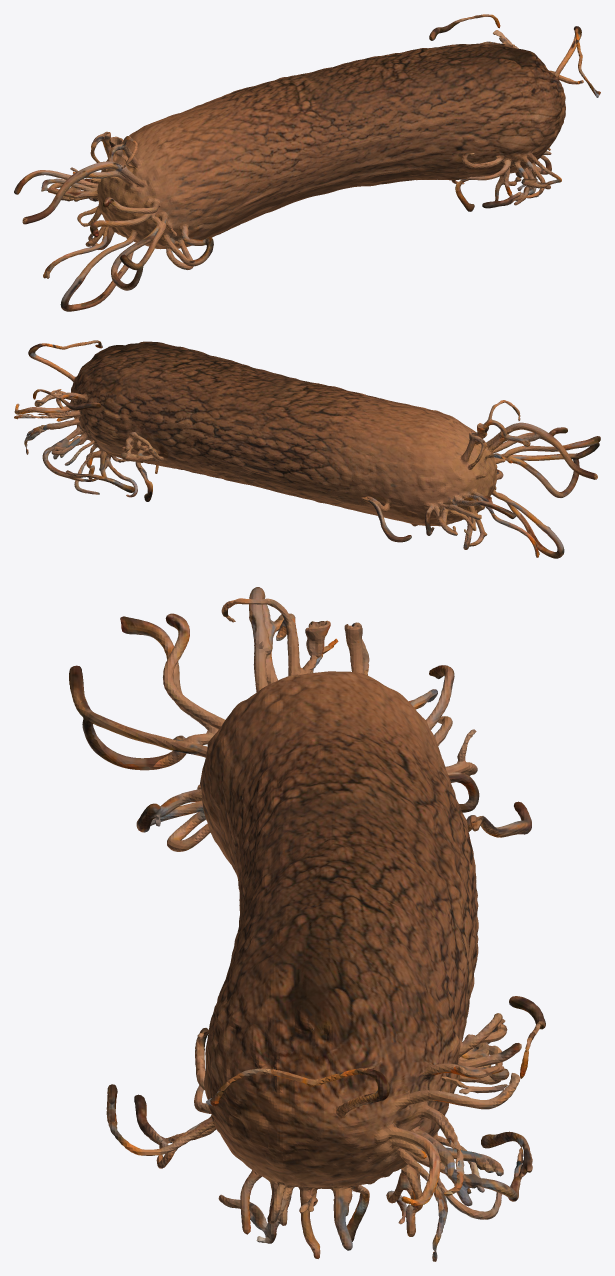
The model's file is pseudomona-aeruginosa.glb.
3 renders of one model, top to bottom at view 1: azimuth 30°, elevation 25°; view 2: azimuth 150°, elevation 25°; view 3: azimuth 270°, elevation 25°, orthographic. The views are drawn at different scales.
Parts seen in each view (by area): view 1: tripo_node_f638565d-5715-4b1c-ad58-03a6134be0c3; view 2: tripo_node_f638565d-5715-4b1c-ad58-03a6134be0c3; view 3: tripo_node_f638565d-5715-4b1c-ad58-03a6134be0c3.
Part boxes in pixels (x1,y1,x2,y2): tripo_node_f638565d-5715-4b1c-ad58-03a6134be0c3: (14,14,600,311); tripo_node_f638565d-5715-4b1c-ad58-03a6134be0c3: (14,340,600,558); tripo_node_f638565d-5715-4b1c-ad58-03a6134be0c3: (69,587,545,1261).
Size of the model in its own units: 1 by 0.2859 by 0.3799.
1 material, 1 textured.
